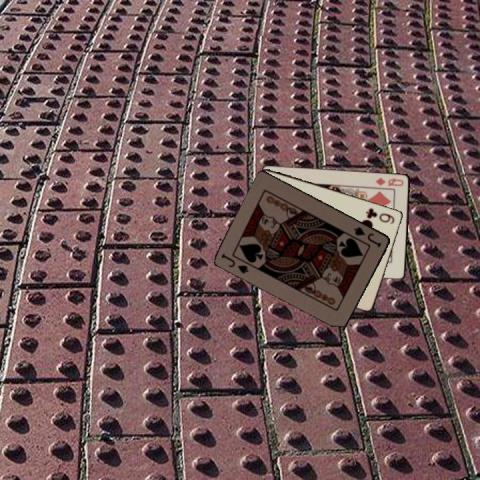6c: (363, 205, 396, 225)
Js: (352, 223, 384, 249), (218, 250, 250, 275)
Qd: (373, 174, 405, 187)
